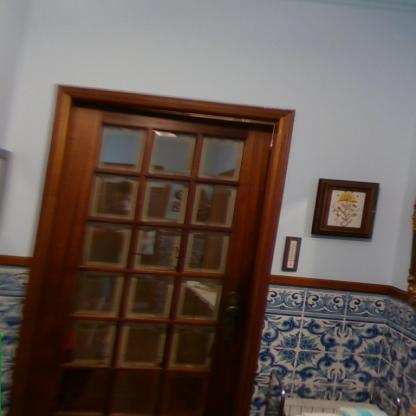closed: (17, 77, 302, 416)
